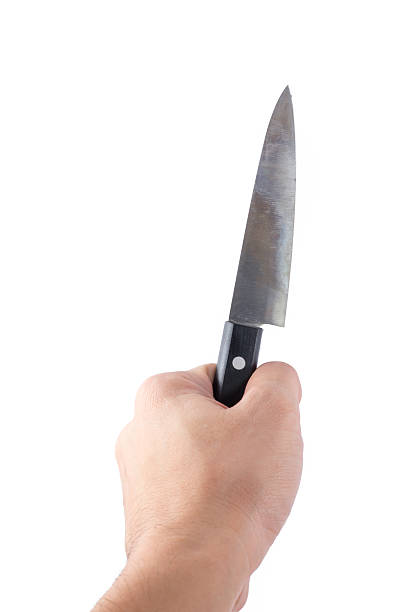knife: (211, 80, 303, 407)
